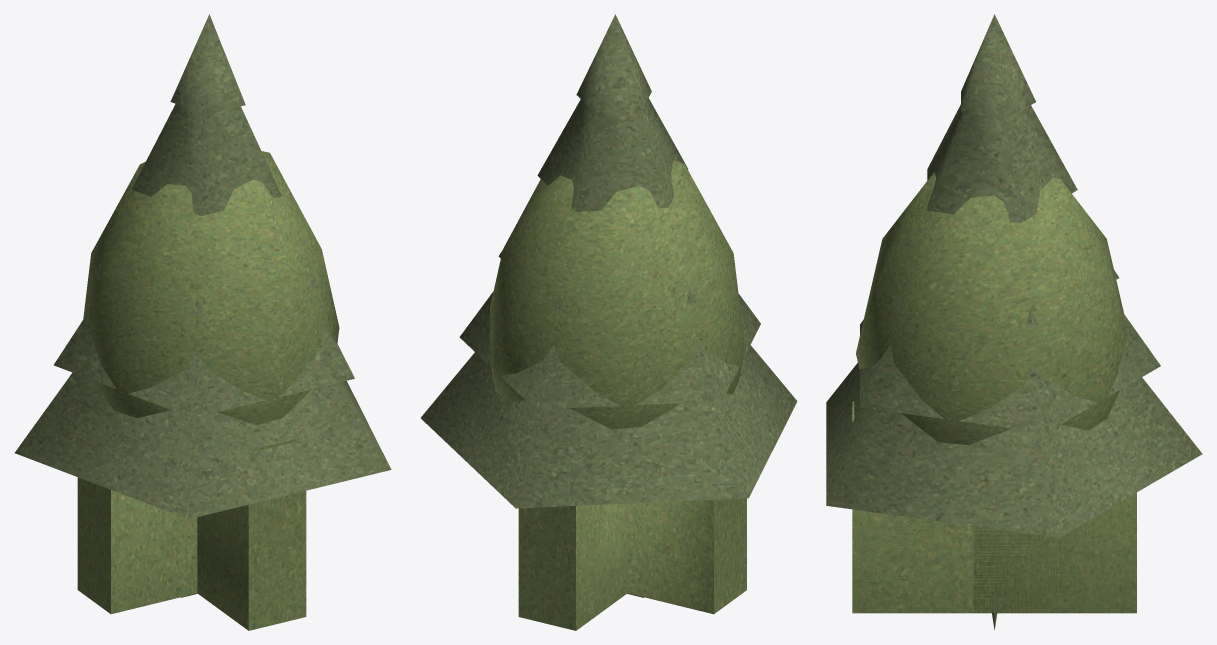
The model's file is Tree.fbx.
3 renders of one model, left to right at view 1: azimuth 30°, elevation 25°; view 2: azimuth 150°, elevation 25°; view 3: azimuth 270°, elevation 25°, orthographic. The views are drawn at different scales.
Visible parts, largest first — view 1: Tree_B, Tree_A, Hedge_A, Hedge_C; view 2: Tree_B, Tree_A, Hedge_C, Hedge_A, Hedge_B; view 3: Tree_B, Tree_A, Hedge_B, Hedge_C, Hedge_A.
Part boxes in pixels (x1,y1,x2,y2): Tree_B: (15, 14, 391, 519); Tree_A: (83, 151, 339, 425); Hedge_A: (197, 438, 306, 630); Hedge_C: (77, 477, 197, 614); Tree_B: (421, 14, 797, 508); Tree_A: (490, 160, 745, 429); Hedge_C: (577, 498, 746, 614); Hedge_A: (518, 505, 627, 630); Hedge_B: (584, 504, 626, 598); Tree_B: (826, 14, 1202, 537); Tree_A: (856, 172, 1127, 444); Hedge_B: (856, 503, 1119, 613); Hedge_C: (973, 495, 1133, 613); Hedge_A: (852, 401, 1136, 613).
Bounding box in the file's own units: 571 × 958 × 543.
